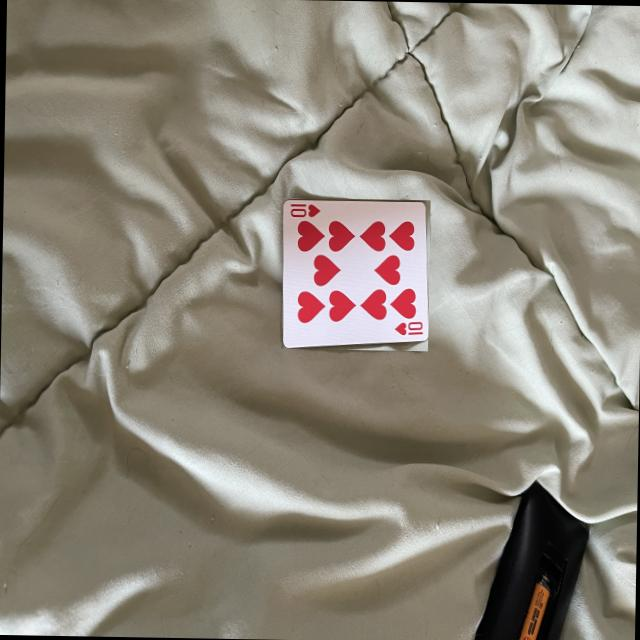10 of hearts: (281, 197, 427, 348)
